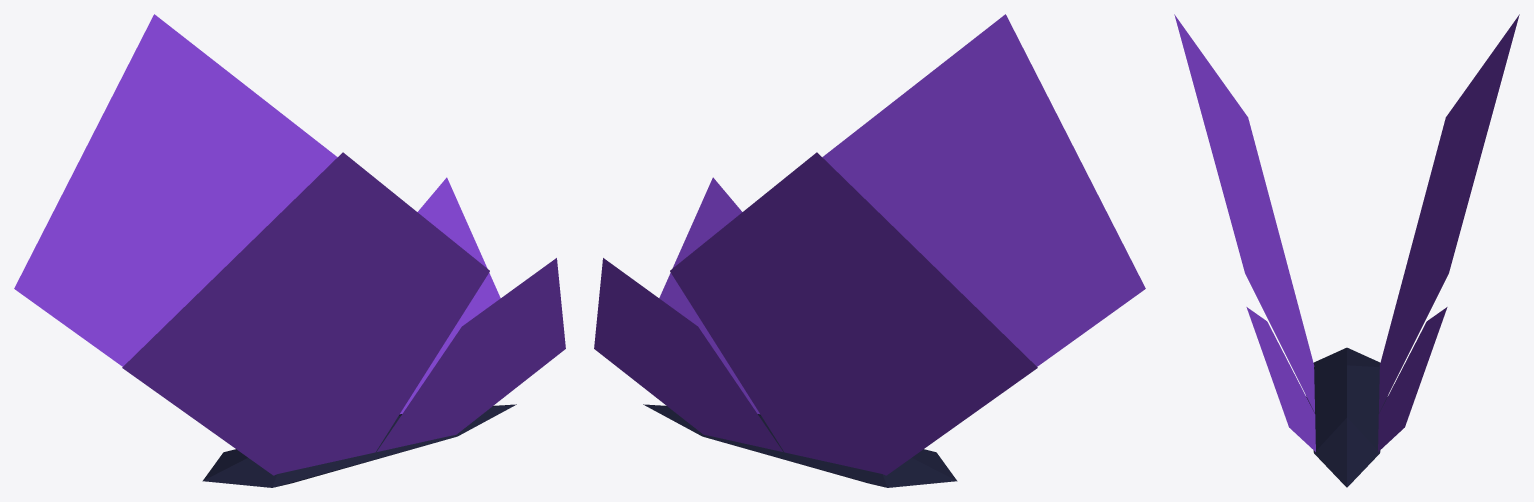
File: Butterfly.glb
The picture shows the model from 3 angles, left to right: view 1: azimuth 30°, elevation 25°; view 2: azimuth 150°, elevation 25°; view 3: azimuth 270°, elevation 25°; orthographic projection. The views are drawn at different scales.
Parts seen in each view (by area): view 1: Right_wing, Left_wing, Body; view 2: Left_wing, Right_wing, Body; view 3: Left_wing, Right_wing, Body.
Part boxes in pixels (<box>): Right_wing: <box>122,152,565,475</box>; Left_wing: <box>14,14,500,414</box>; Body: <box>202,404,516,487</box>; Left_wing: <box>594,152,1037,475</box>; Right_wing: <box>659,14,1145,414</box>; Body: <box>643,404,957,487</box>; Left_wing: <box>1378,14,1519,451</box>; Right_wing: <box>1174,14,1315,451</box>; Body: <box>1306,347,1387,487</box>.
Bounding box in the file's own units: 4.36 × 3.67 × 3.05.
